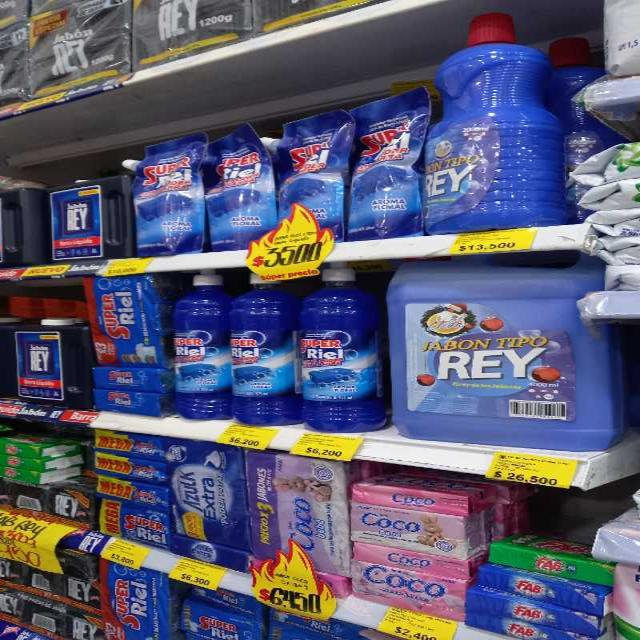Jabon_rey: (388, 272, 620, 451), (13, 317, 93, 413), (48, 178, 137, 261)
Super_Riel: (296, 272, 379, 429), (230, 273, 295, 419), (175, 268, 231, 418)
